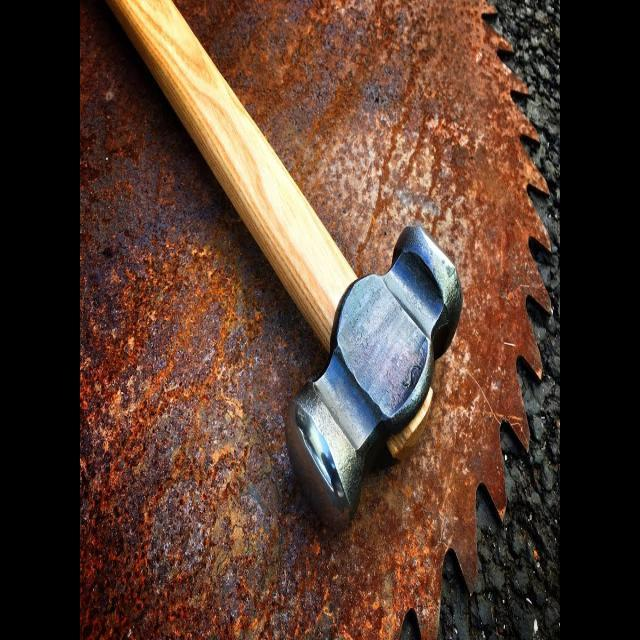hammer: (102, 0, 466, 540)
